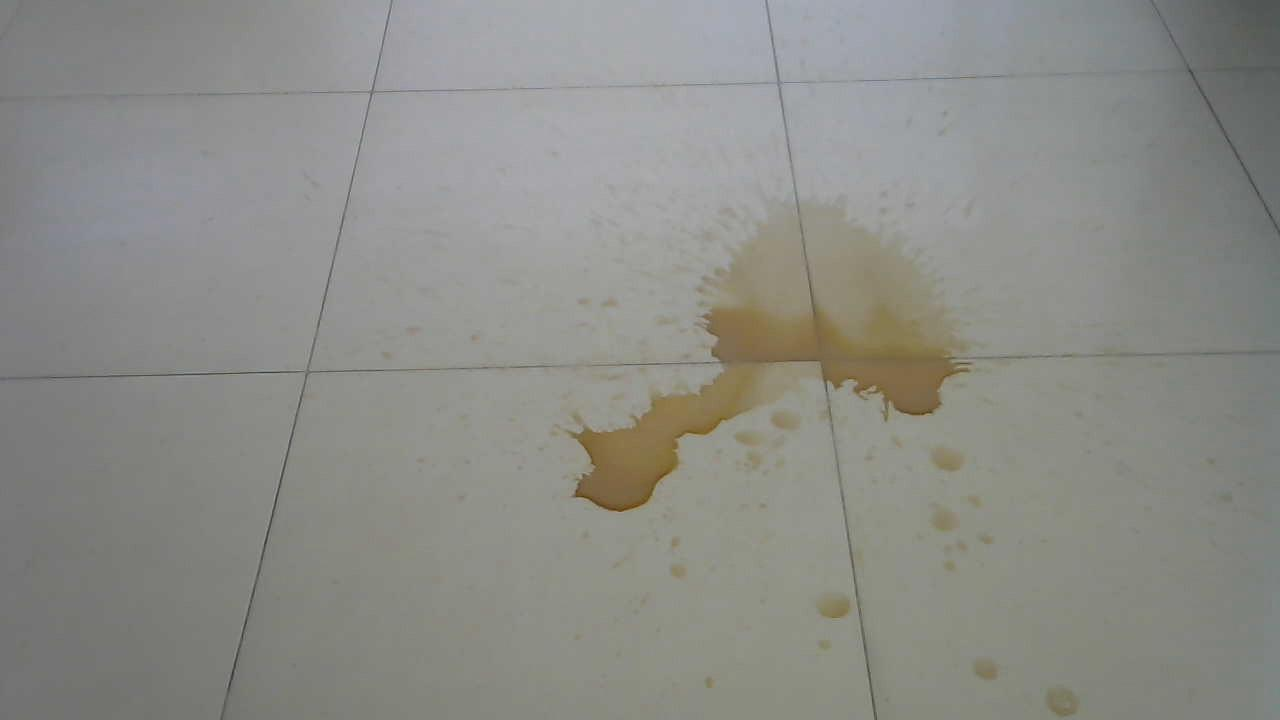dirty_floor: (554, 169, 1002, 624)
